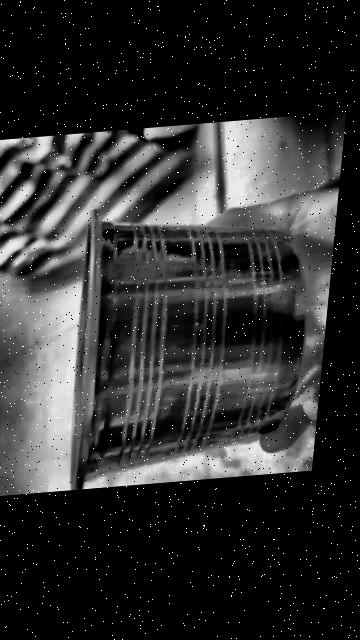pot: (72, 211, 305, 490)
